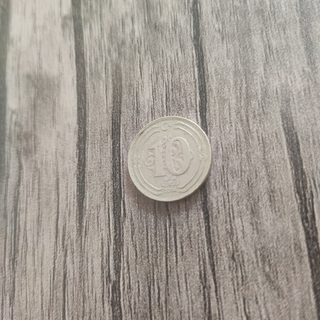10KURUS: (126, 114, 214, 203)
